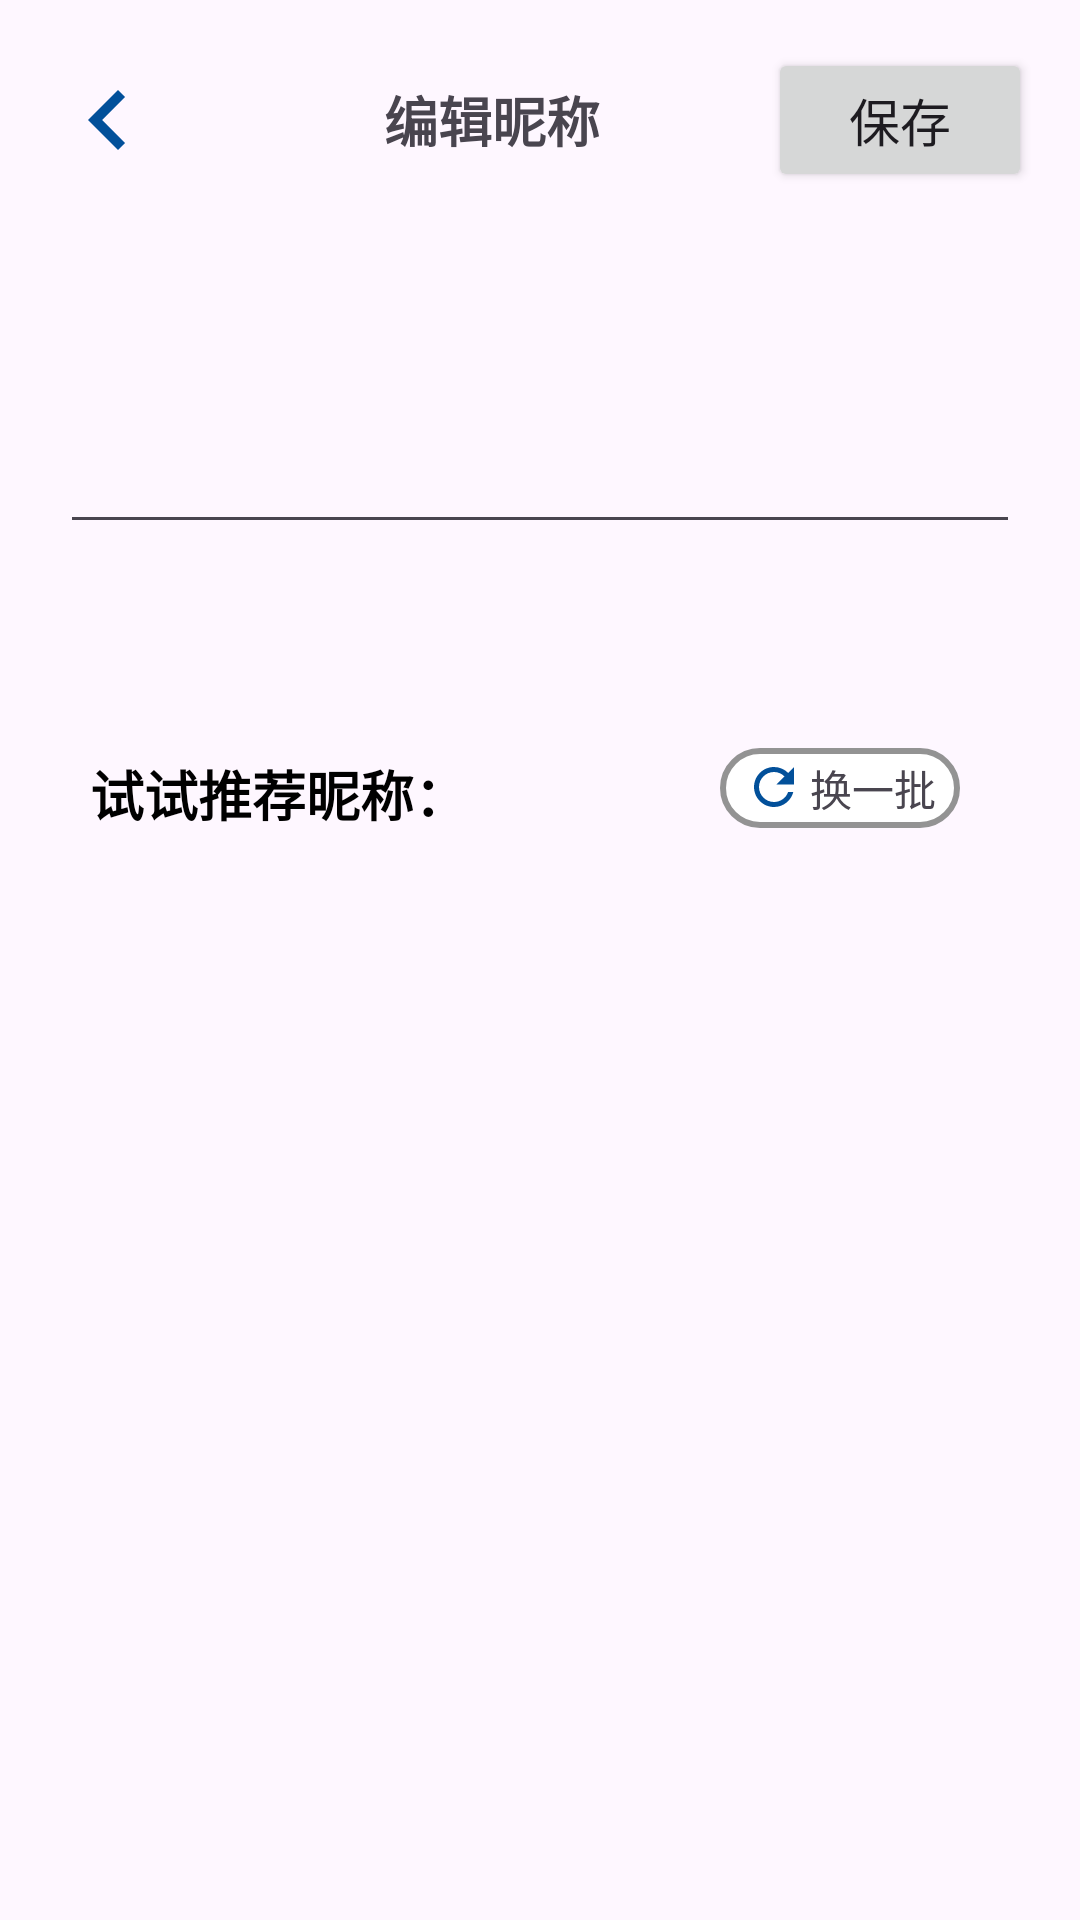

Named icons in this screenshot (1080w x 1920h) and their centers, (x=x, y=y):
refresh: (x=774, y=787)
返回: (x=106, y=120)
